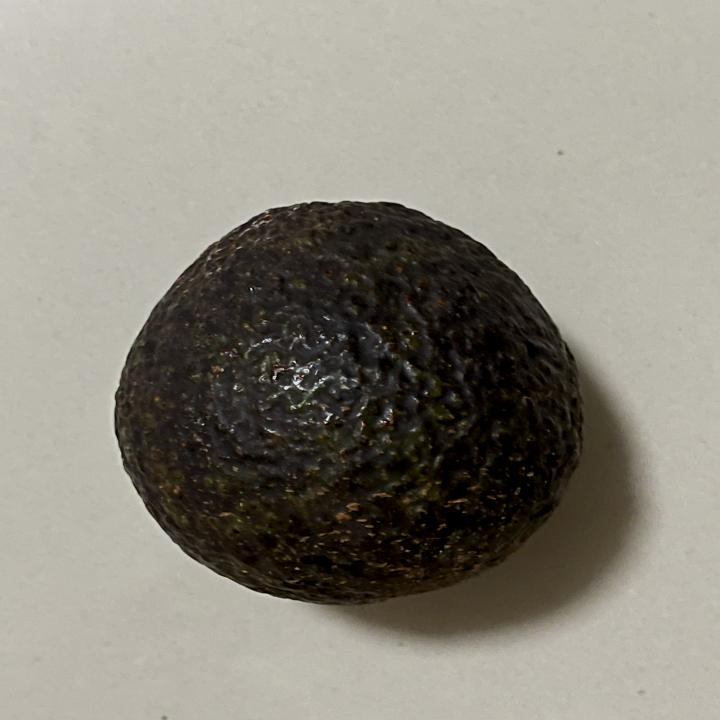Level1: (98, 191, 594, 613)
